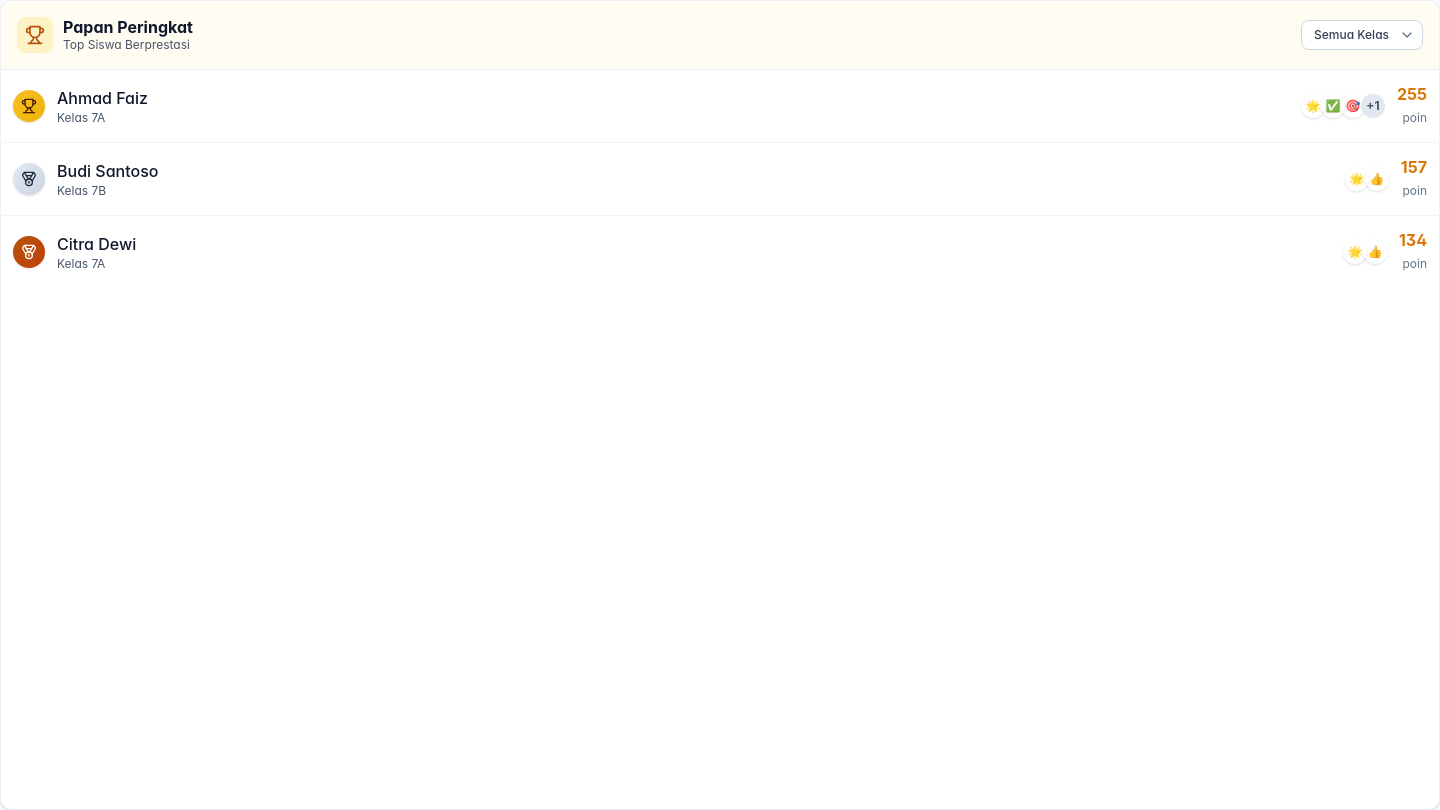
Scenario: LeaderboardCard › filters students by class when class selector changes
The width and height of the screenshot is (1440, 810).
Filter to Kelas 7B
Step 1. Select "Kelas 7B" in the dropdown → [1362, 35], box [1301,20,1423,50]
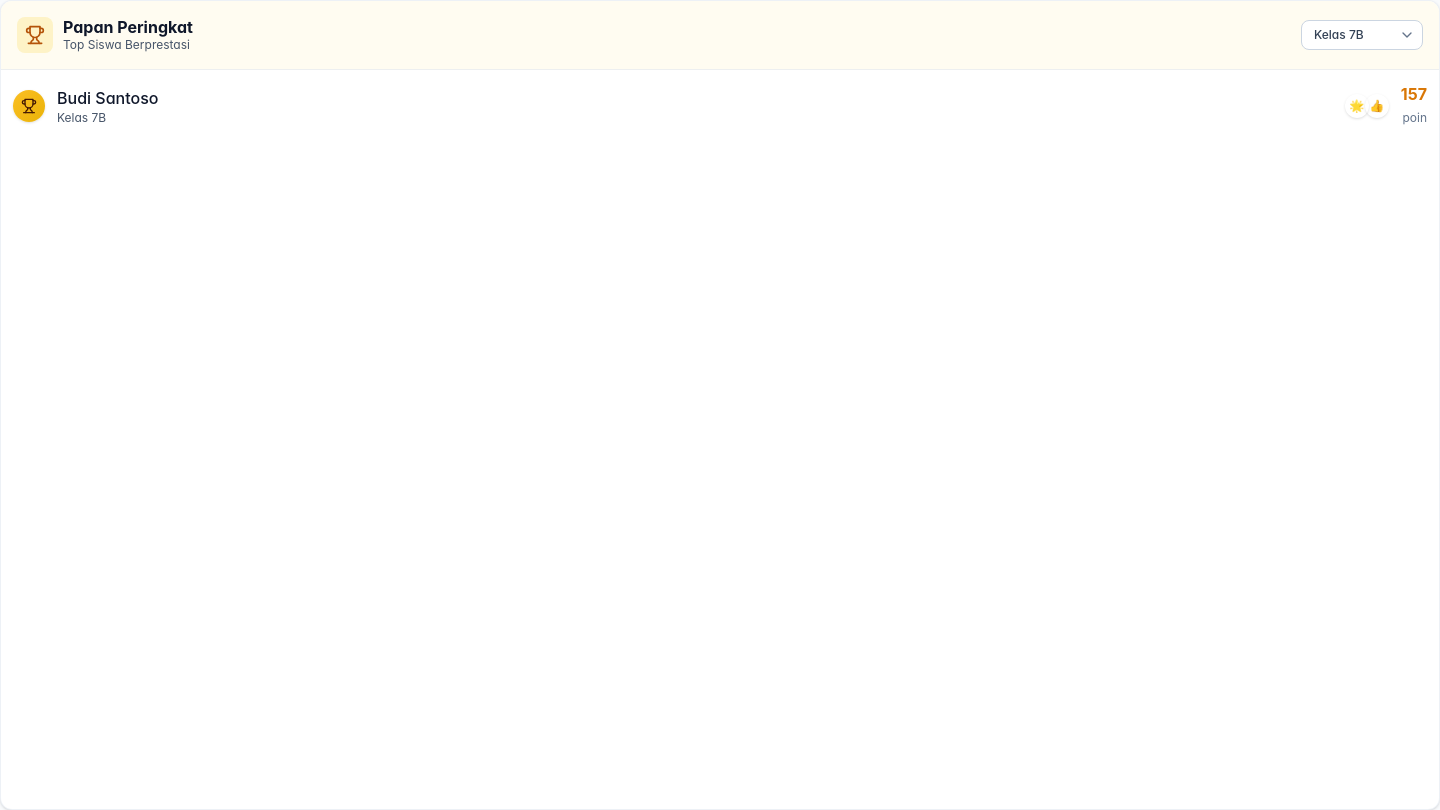
Expected: the text "Budi Santoso" is shown, [57,88,158,108]
Expected: the link "Ahmad Faiz" is gone
